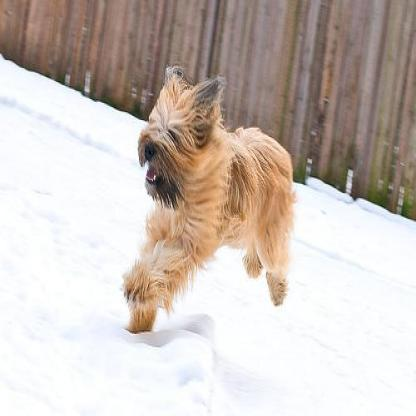briard: (123, 63, 294, 335)
